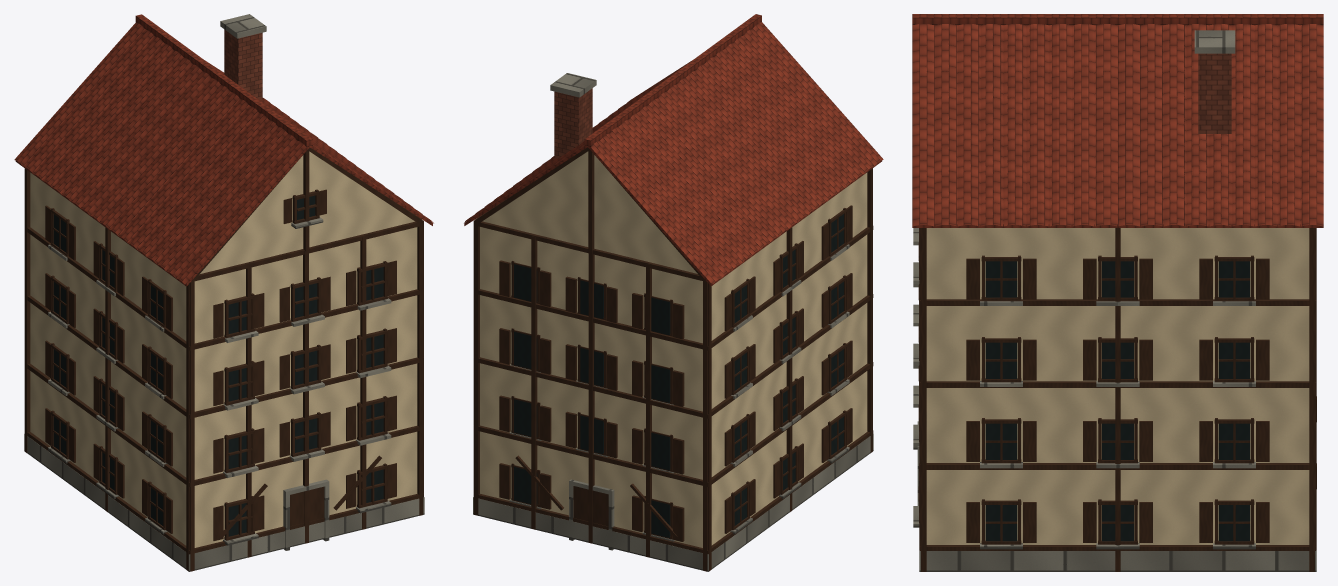
Rendered from SG_House_B_Tall_LOD0.fbx.
3 renders of one model, left to right at view 1: azimuth 30°, elevation 25°; view 2: azimuth 150°, elevation 25°; view 3: azimuth 270°, elevation 25°, orthographic. The views are drawn at different scales.
Visible parts, largest first — view 1: SG_House_B_Tall_Detail0; view 2: SG_House_B_Tall_Detail0; view 3: SG_House_B_Tall_Detail0.
Boxes of the visible parts, x1,y1,x2,y2 form: SG_House_B_Tall_Detail0: (14, 14, 433, 571); SG_House_B_Tall_Detail0: (464, 14, 883, 571); SG_House_B_Tall_Detail0: (912, 14, 1323, 571).
Size of the model in its own units: 19.64 by 31.35 by 23.3.
